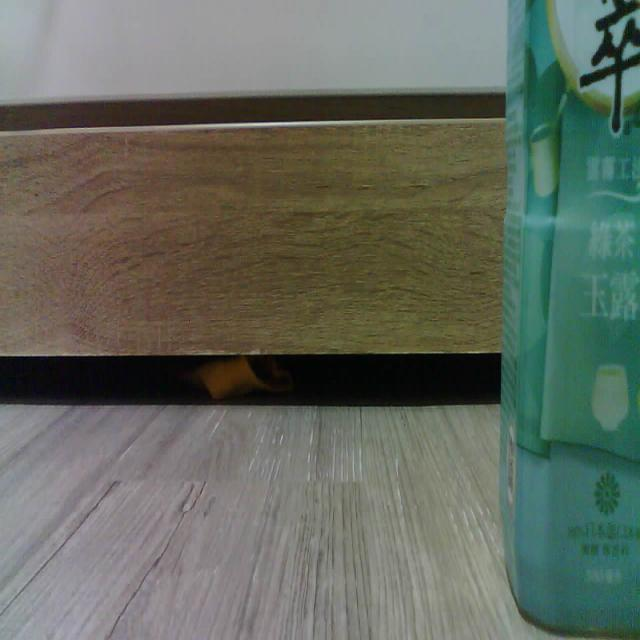bottle: (500, 0, 640, 634)
